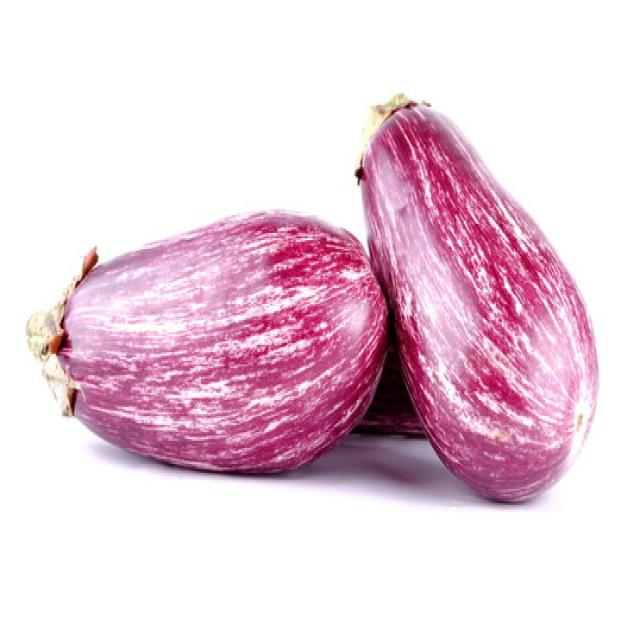Eggplant: (353, 91, 600, 503), (25, 206, 390, 475)
